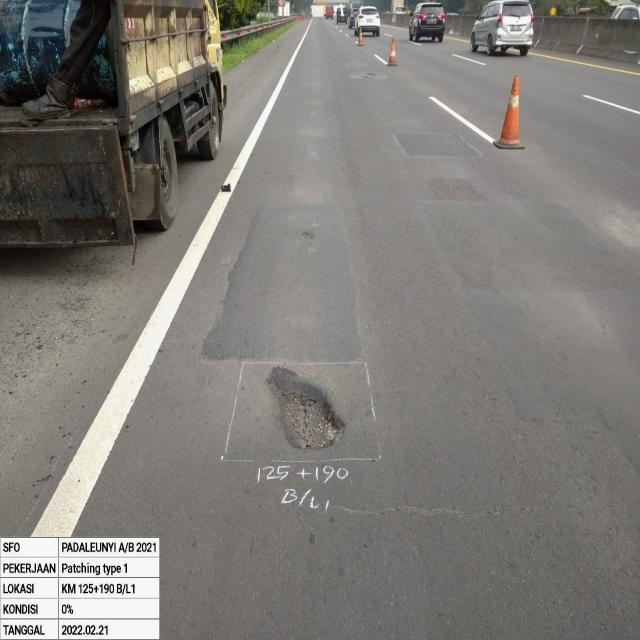Buraco: (264, 377, 348, 452), (297, 228, 317, 242)
